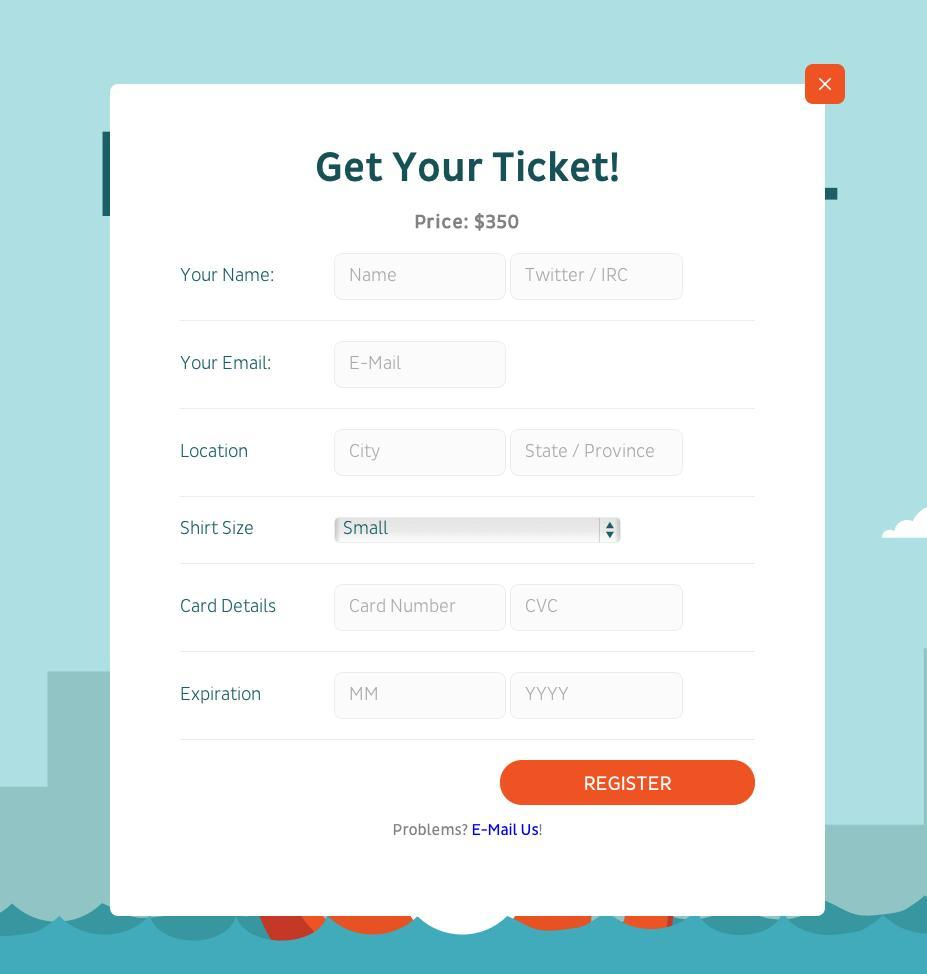button: (500, 759, 756, 807)
dropdown: (334, 516, 621, 546)
input: (331, 250, 509, 305), (508, 250, 686, 304), (508, 581, 685, 634), (332, 582, 509, 635), (509, 670, 686, 723), (332, 339, 510, 391), (333, 671, 510, 721), (336, 430, 507, 478), (510, 431, 686, 477)
label: (314, 147, 625, 185), (412, 211, 524, 232), (179, 353, 277, 375), (177, 266, 277, 286), (180, 597, 278, 617), (179, 684, 264, 705), (177, 518, 258, 537), (179, 440, 252, 461)
